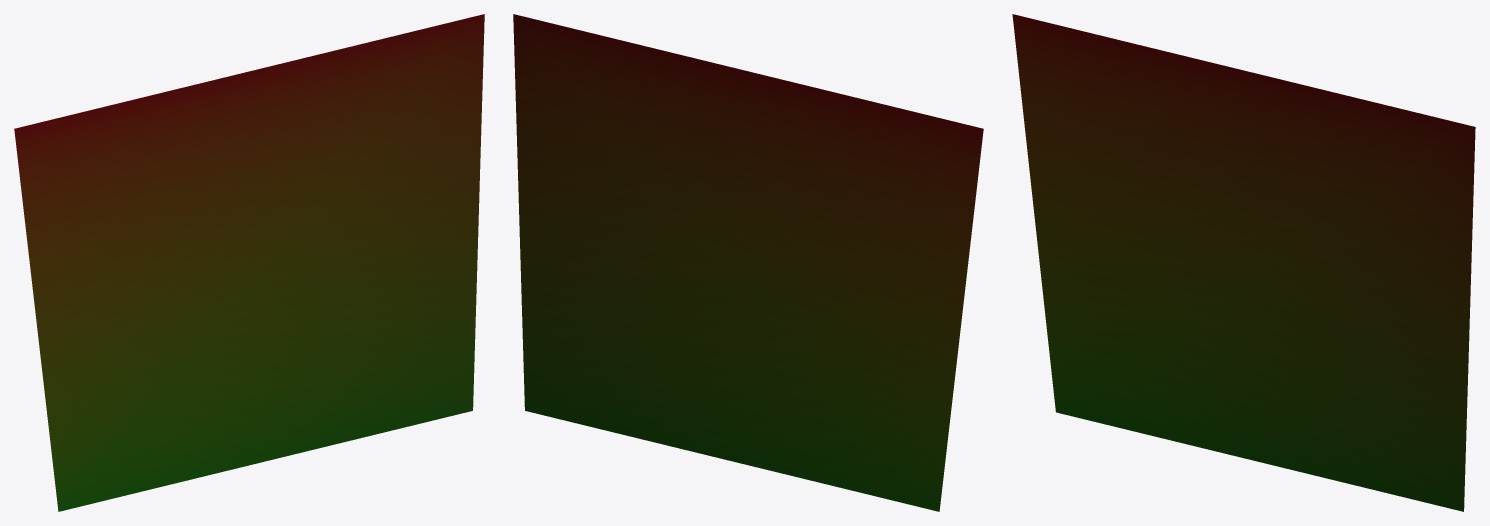
Rendered from Var8_LOD3.fbx.
The picture shows the model from 3 angles, left to right: view 1: azimuth 30°, elevation 25°; view 2: azimuth 150°, elevation 25°; view 3: azimuth 330°, elevation 25°; orthographic projection.
Visible parts, largest first — view 1: _0ff1_Var8_LOD3; view 2: _0ff1_Var8_LOD3; view 3: _0ff1_Var8_LOD3.
Boxes of the visible parts, x1=… form: _0ff1_Var8_LOD3: x1=14, y1=14, x2=484, y2=511; _0ff1_Var8_LOD3: x1=513, y1=14, x2=983, y2=511; _0ff1_Var8_LOD3: x1=1012, y1=14, x2=1475, y2=511.
Bounding box in the file's own units: 41.28 × 33.03 × 1.47e-05.
